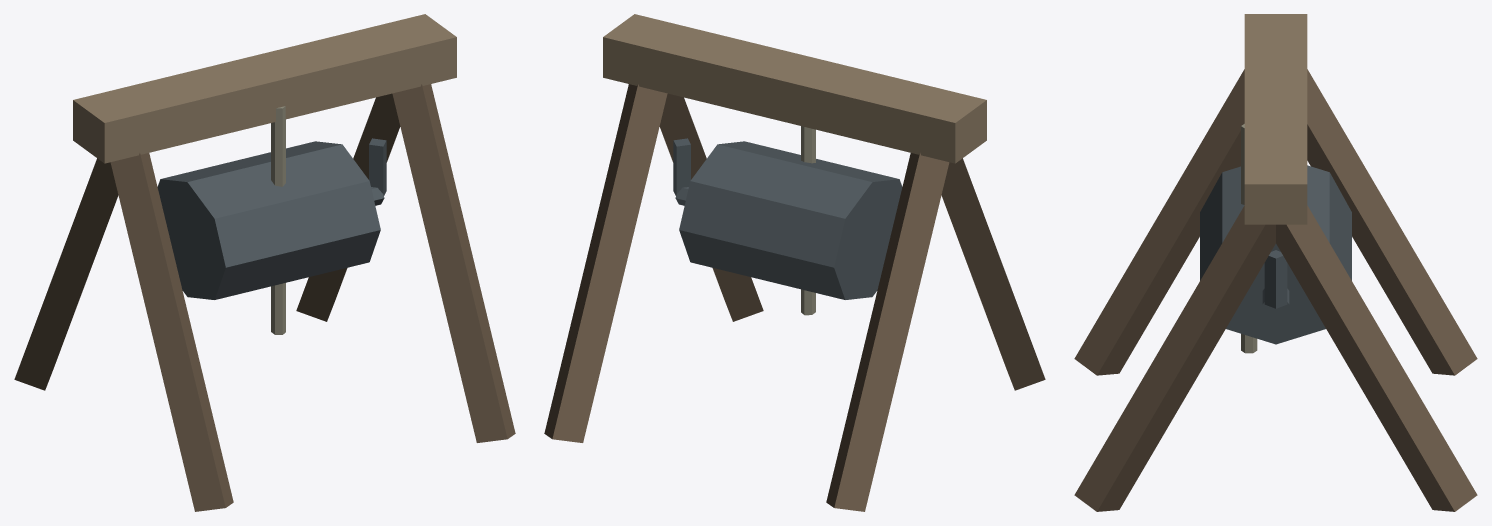
File: fish_hoist.glb
3 views of the same model, side by side, from view 1: azimuth 30°, elevation 25°; view 2: azimuth 150°, elevation 25°; view 3: azimuth 270°, elevation 25° (orthographic).
Visible parts, largest first — view 1: fish_hoist; view 2: fish_hoist; view 3: fish_hoist.
Boxes of the visible parts, bbox=[...] form: fish_hoist: bbox=[14, 14, 515, 511]; fish_hoist: bbox=[544, 14, 1045, 511]; fish_hoist: bbox=[1074, 14, 1477, 511].
Size of the model in its own units: 2.88 by 2.7 by 2.88.
